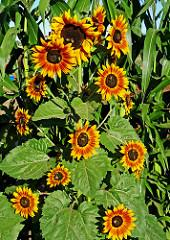sunflower: (48, 13, 95, 59), (33, 36, 74, 77), (93, 61, 130, 102), (70, 118, 100, 160), (99, 205, 134, 240), (106, 15, 132, 56), (11, 187, 39, 219), (121, 140, 148, 171), (25, 76, 49, 100), (47, 166, 70, 187), (13, 107, 30, 134)
